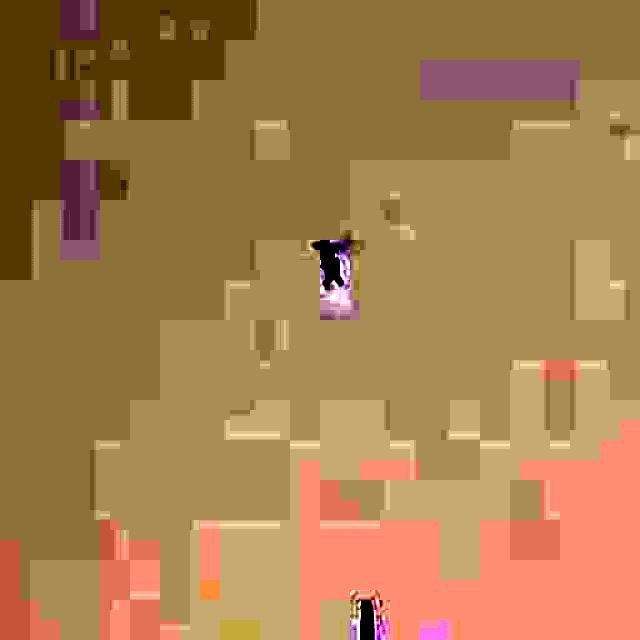drone: (305, 222, 359, 310)
